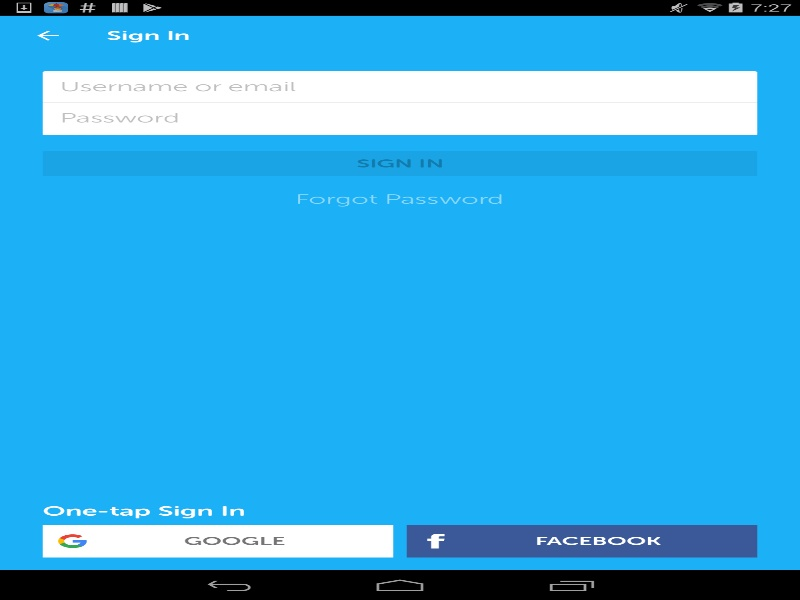Button: (42, 525, 393, 557), (406, 525, 757, 557), (10, 15, 85, 55)
Input: (42, 71, 757, 102), (42, 102, 757, 133)
